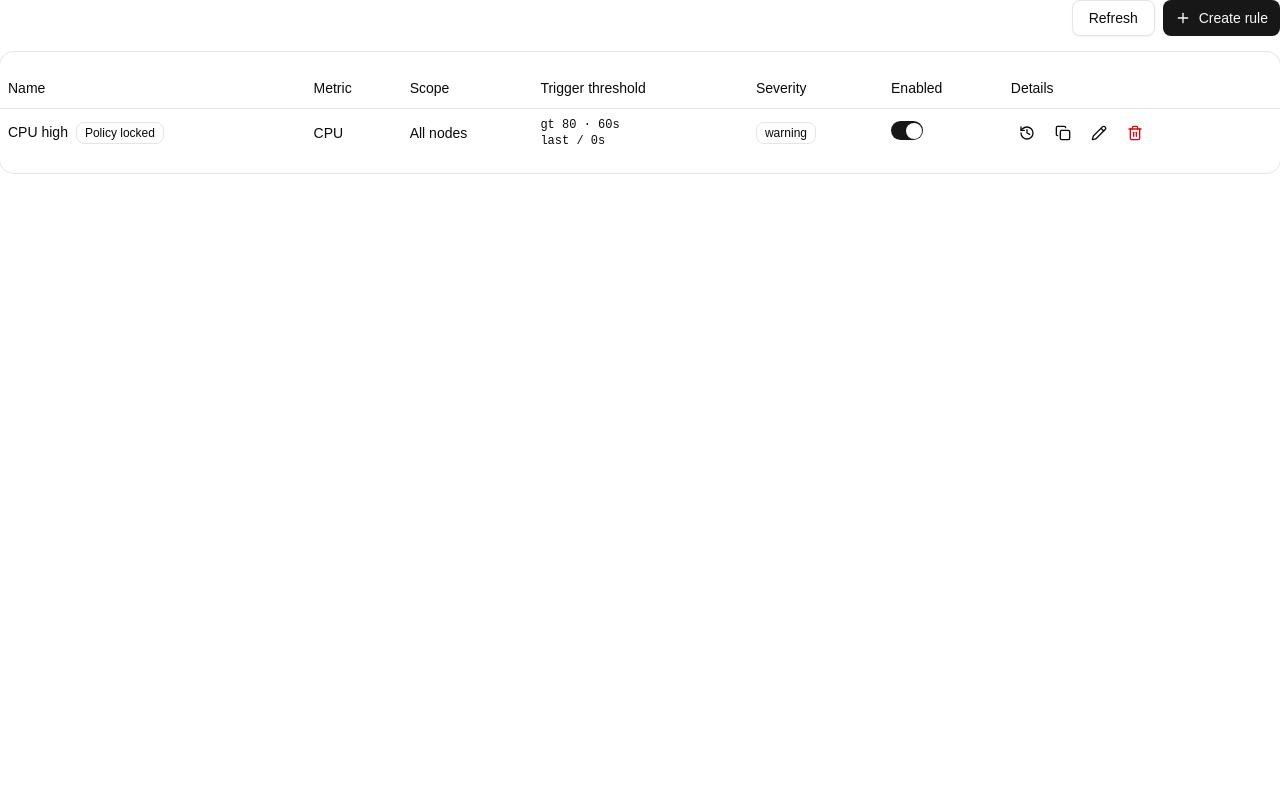
Scenario: opens create/edit, preserves locked state and displays load errors
expect the text "CPU high" is shown: met, box [8,124,68,140]
Click the button named "Edit rule CPU high". click: (1099, 132)
box: [1083,116,1115,148]
(page scrolled)
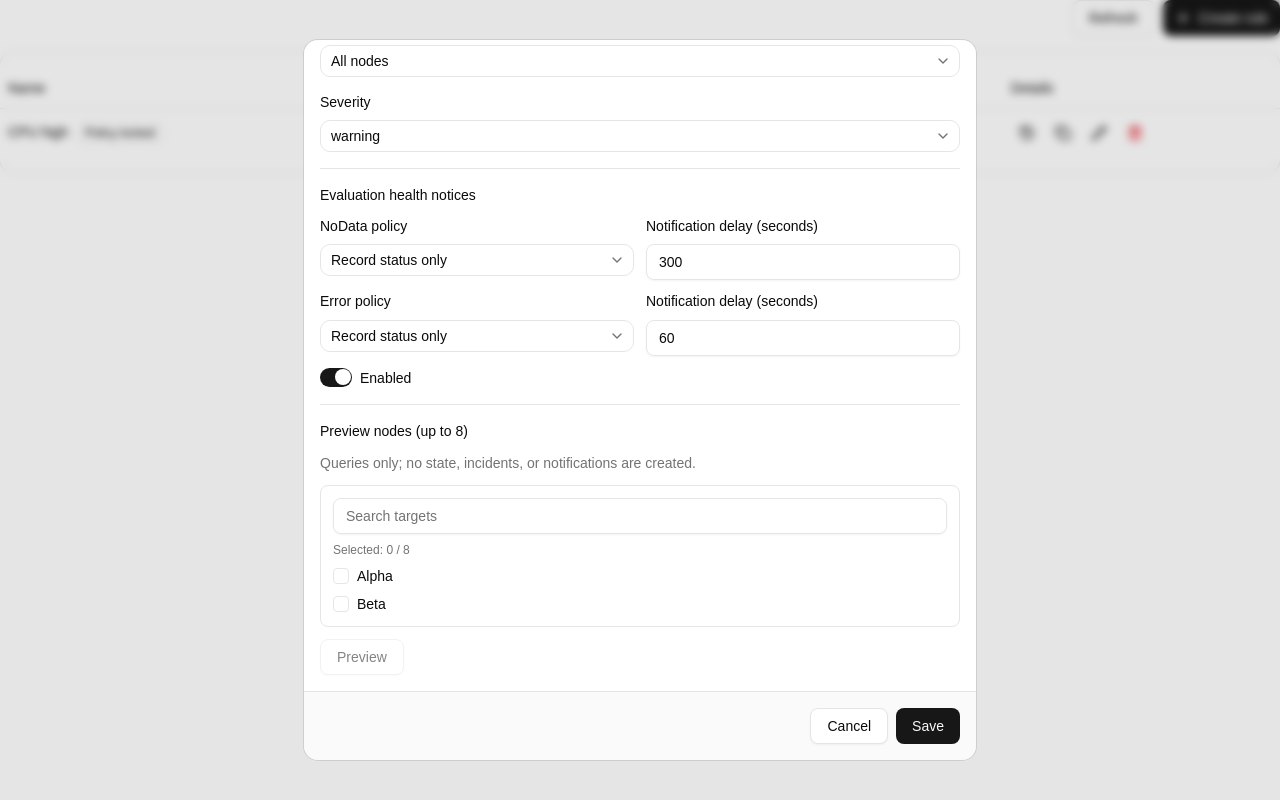
Click the button "Cancel". click: (849, 726)
box: [810,708,888,744]
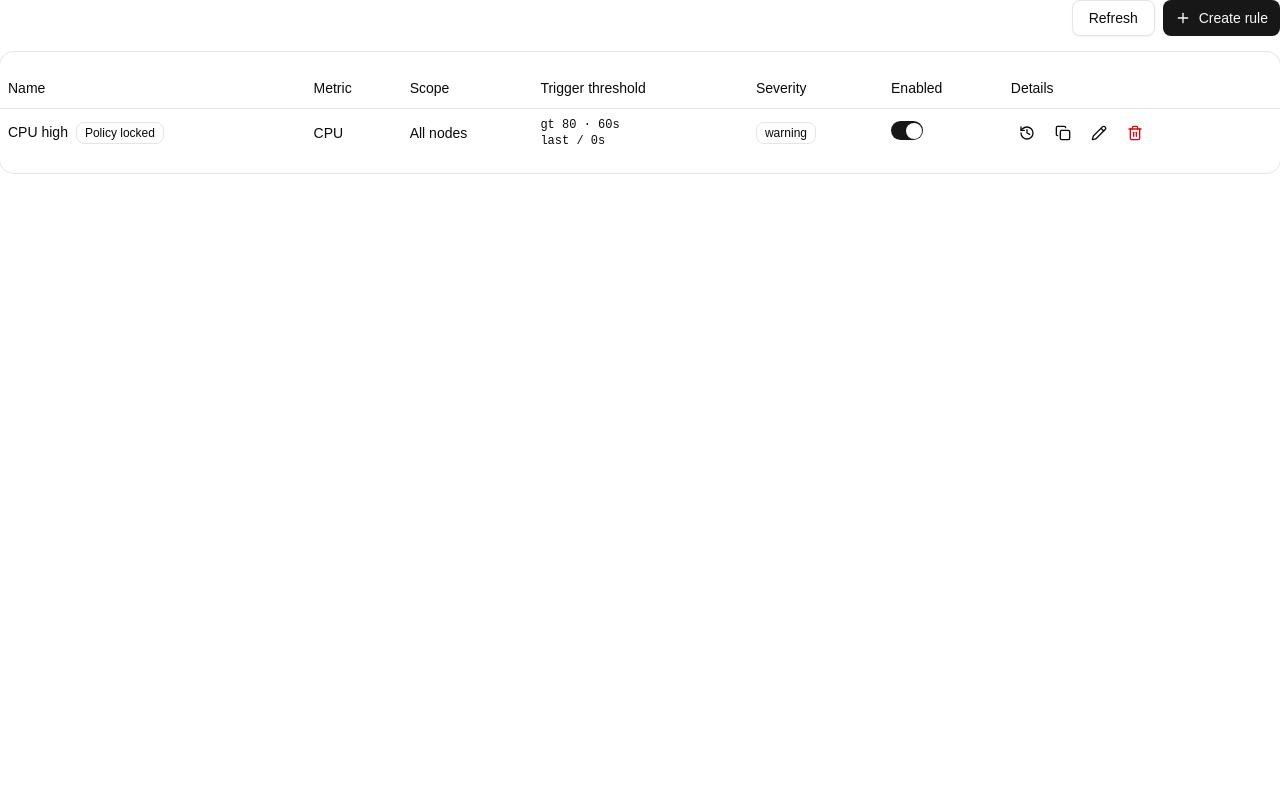
Click the button "Create rule". click: (1221, 18)
box: [1163,0,1279,36]
(page scrolled)
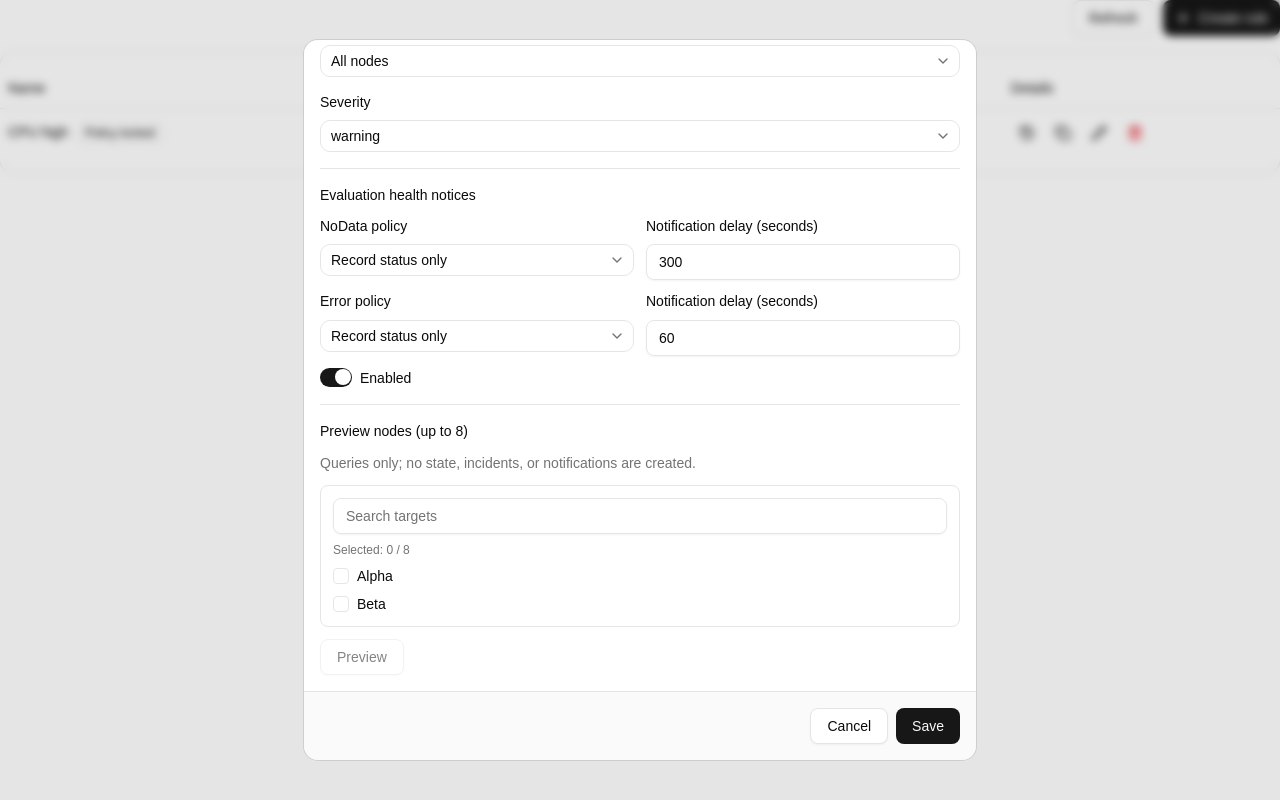
Click the button "Cancel". click: (849, 726)
box: [810,708,888,744]
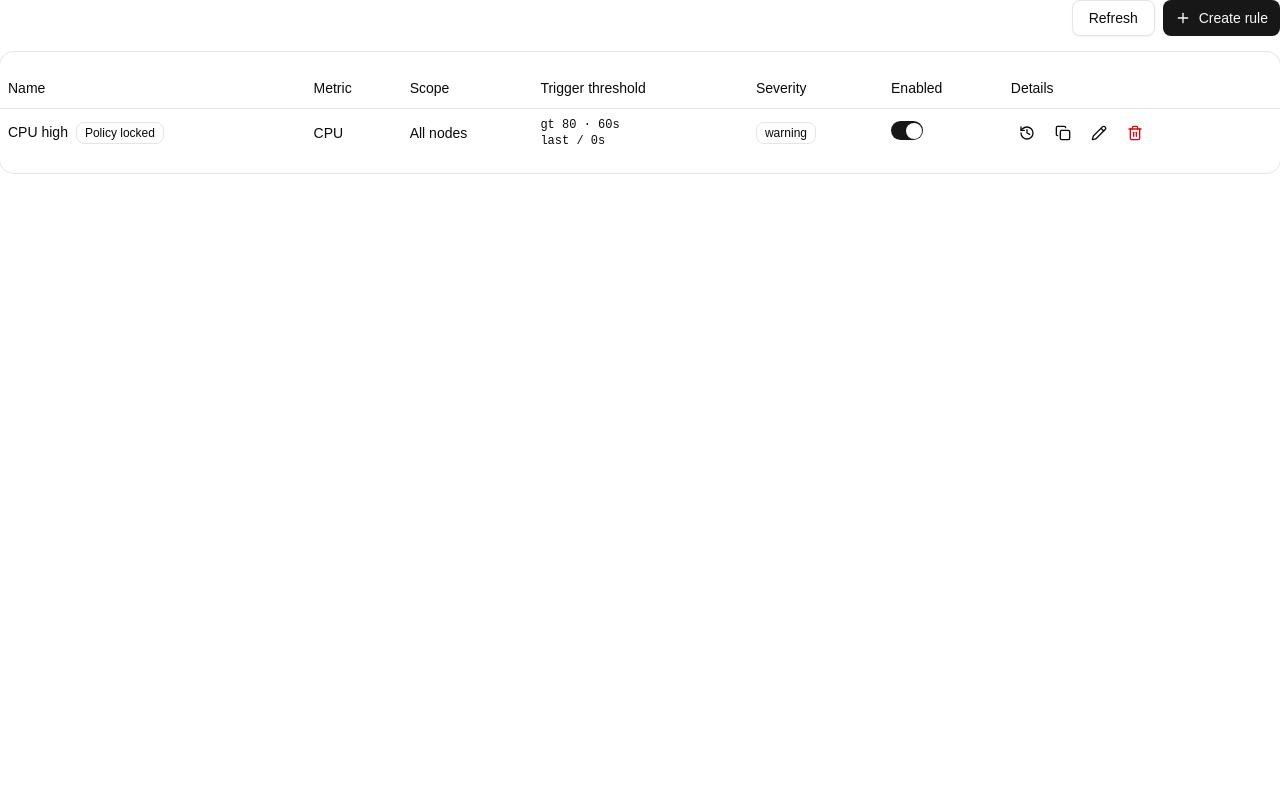
Click the button "Refresh". click: (1113, 18)
box: [1072,0,1155,36]
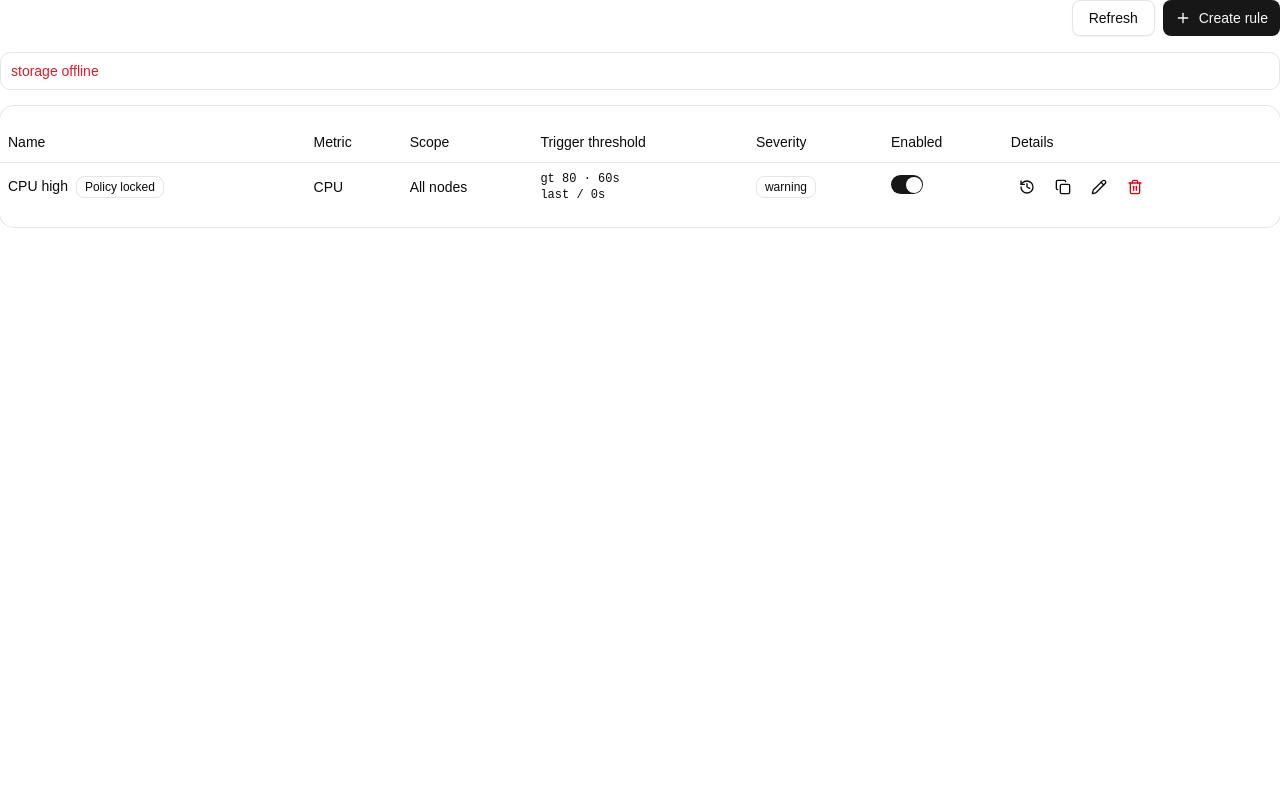
expect the text "storage offline" is shown: met, box [11,63,99,79]
